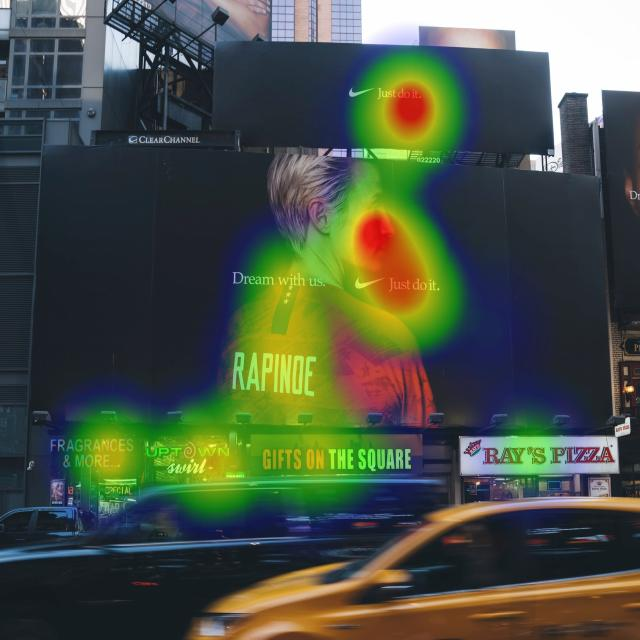Werbetafel frei: (30, 142, 615, 431), (210, 42, 554, 156)
